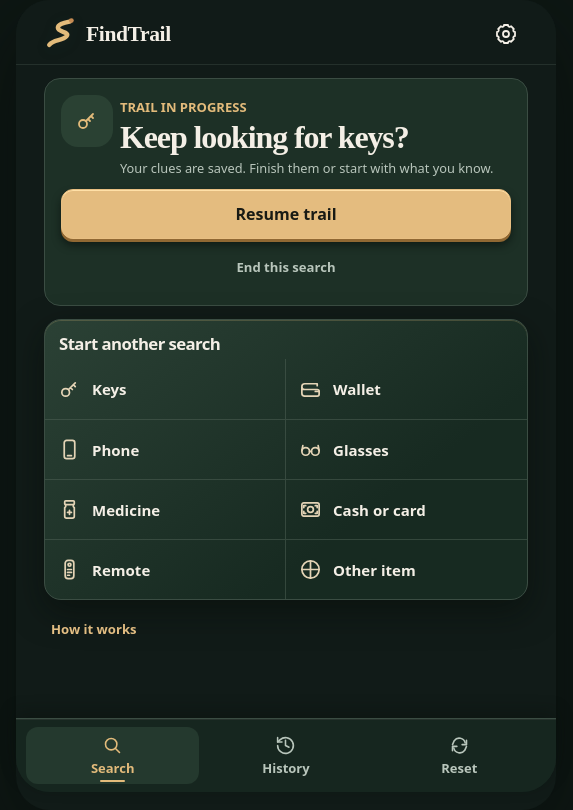
Test: search improvements › keeps the selected activity and prior checks when starting from the last clue
This screenshot has width=573, height=810.
Click the button "Resume trail": (286, 214) [61,190,511,240]
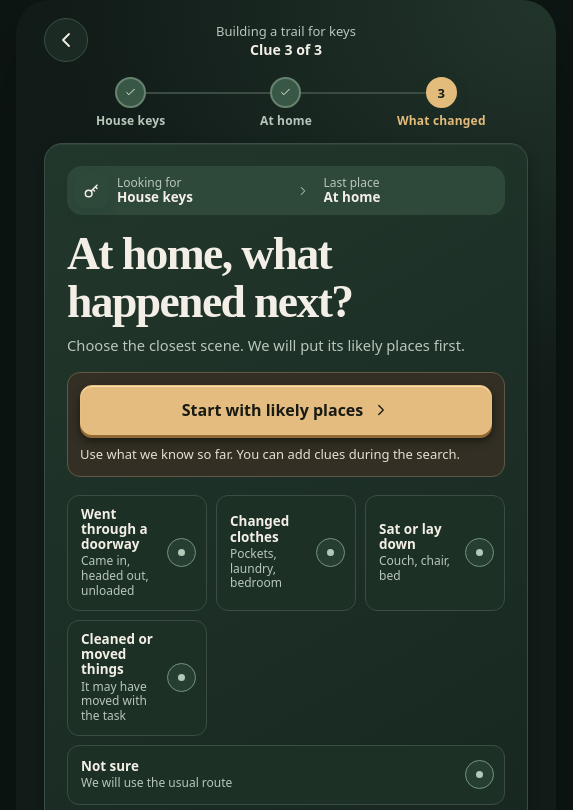
Click the button "Changed clothes Pockets, laundry, bedroom": (286, 553) [216,494,356,611]
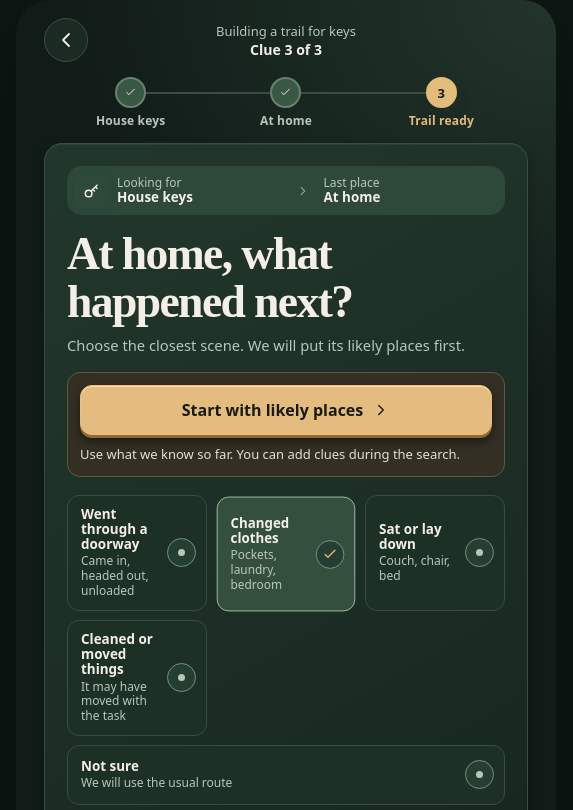
Click the button "Start with likely places": (286, 410) [80,385,492,435]
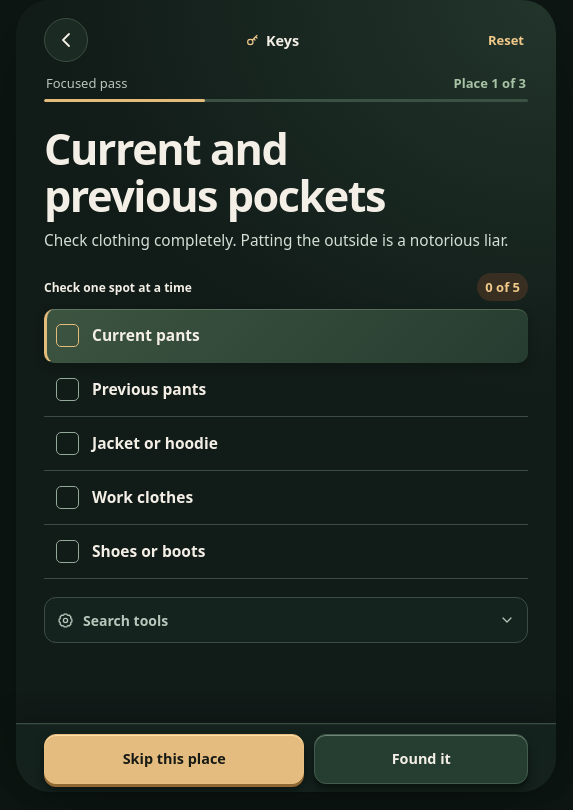
Now the heading "Current and previous pockets" is shown, box [44,119,385,225]
